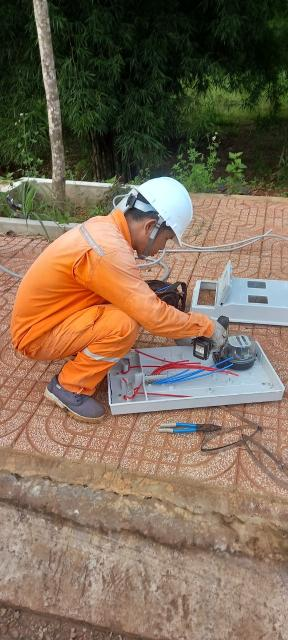gloves: (198, 312, 242, 351), (172, 333, 200, 350)
helmet: (127, 173, 202, 260)
shoes: (42, 366, 115, 443)
